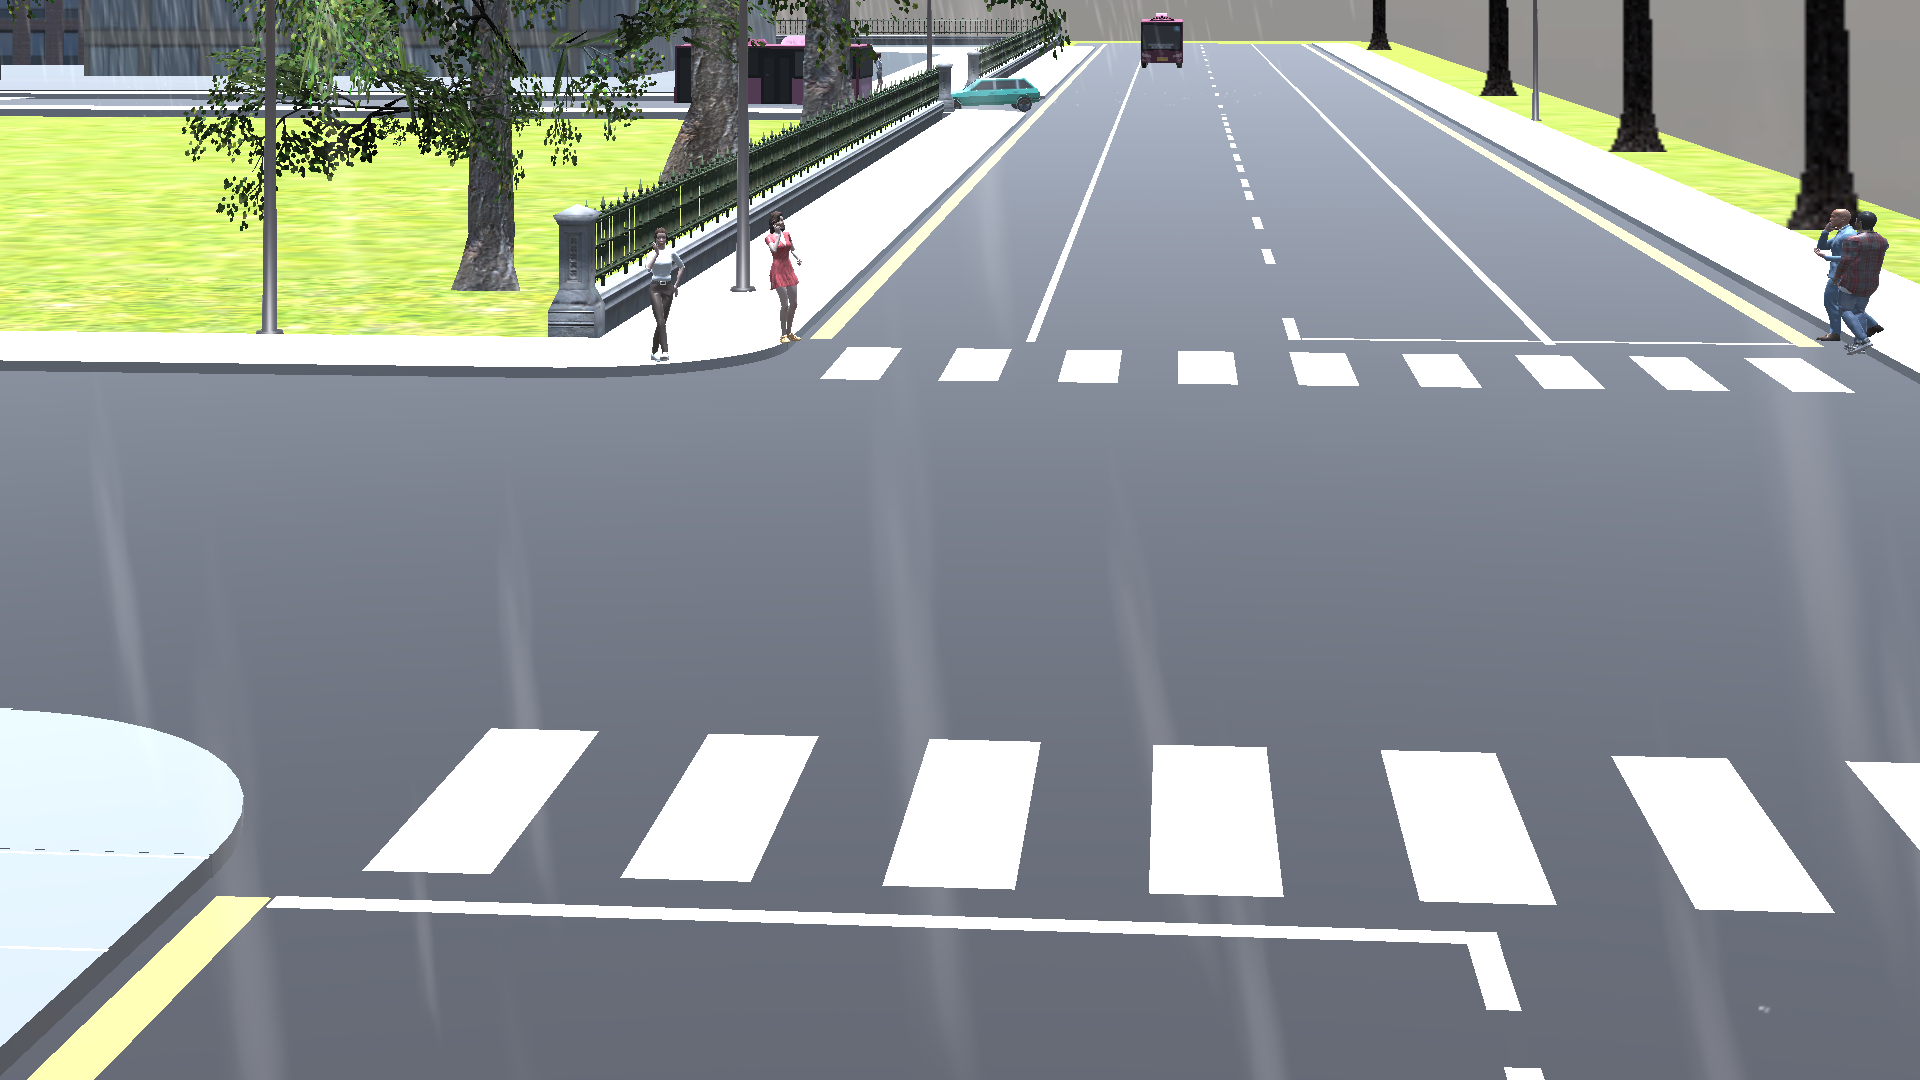pedestrian: (631, 216, 693, 372), (760, 202, 826, 345), (1843, 212, 1889, 367), (1812, 198, 1849, 348)
